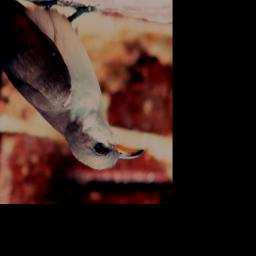Cuckoo: (0, 0, 144, 170)
